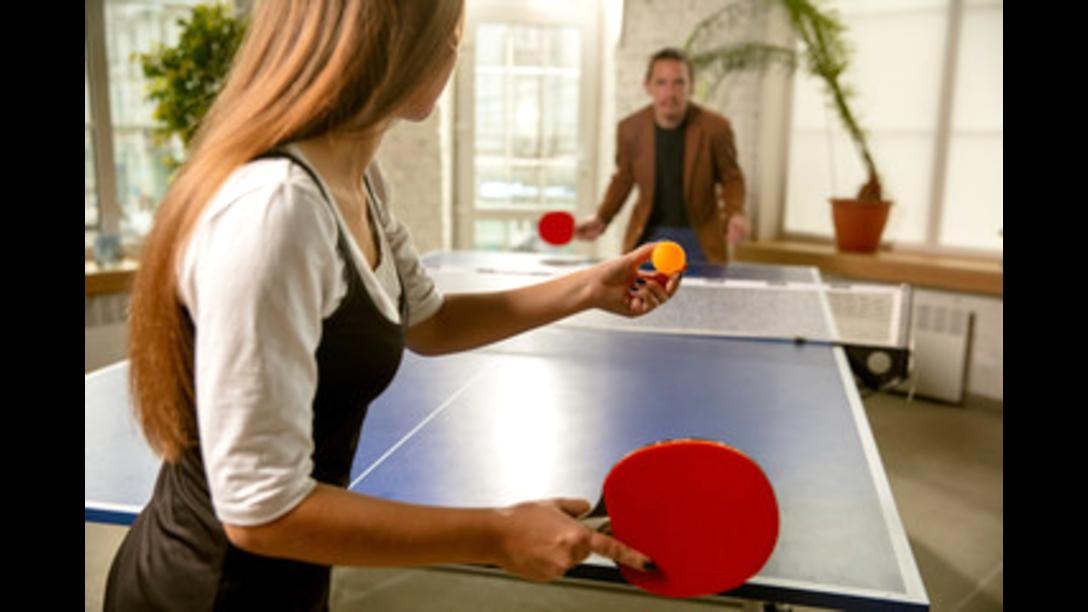Table-Tennis-Ball: (653, 240, 685, 272)
